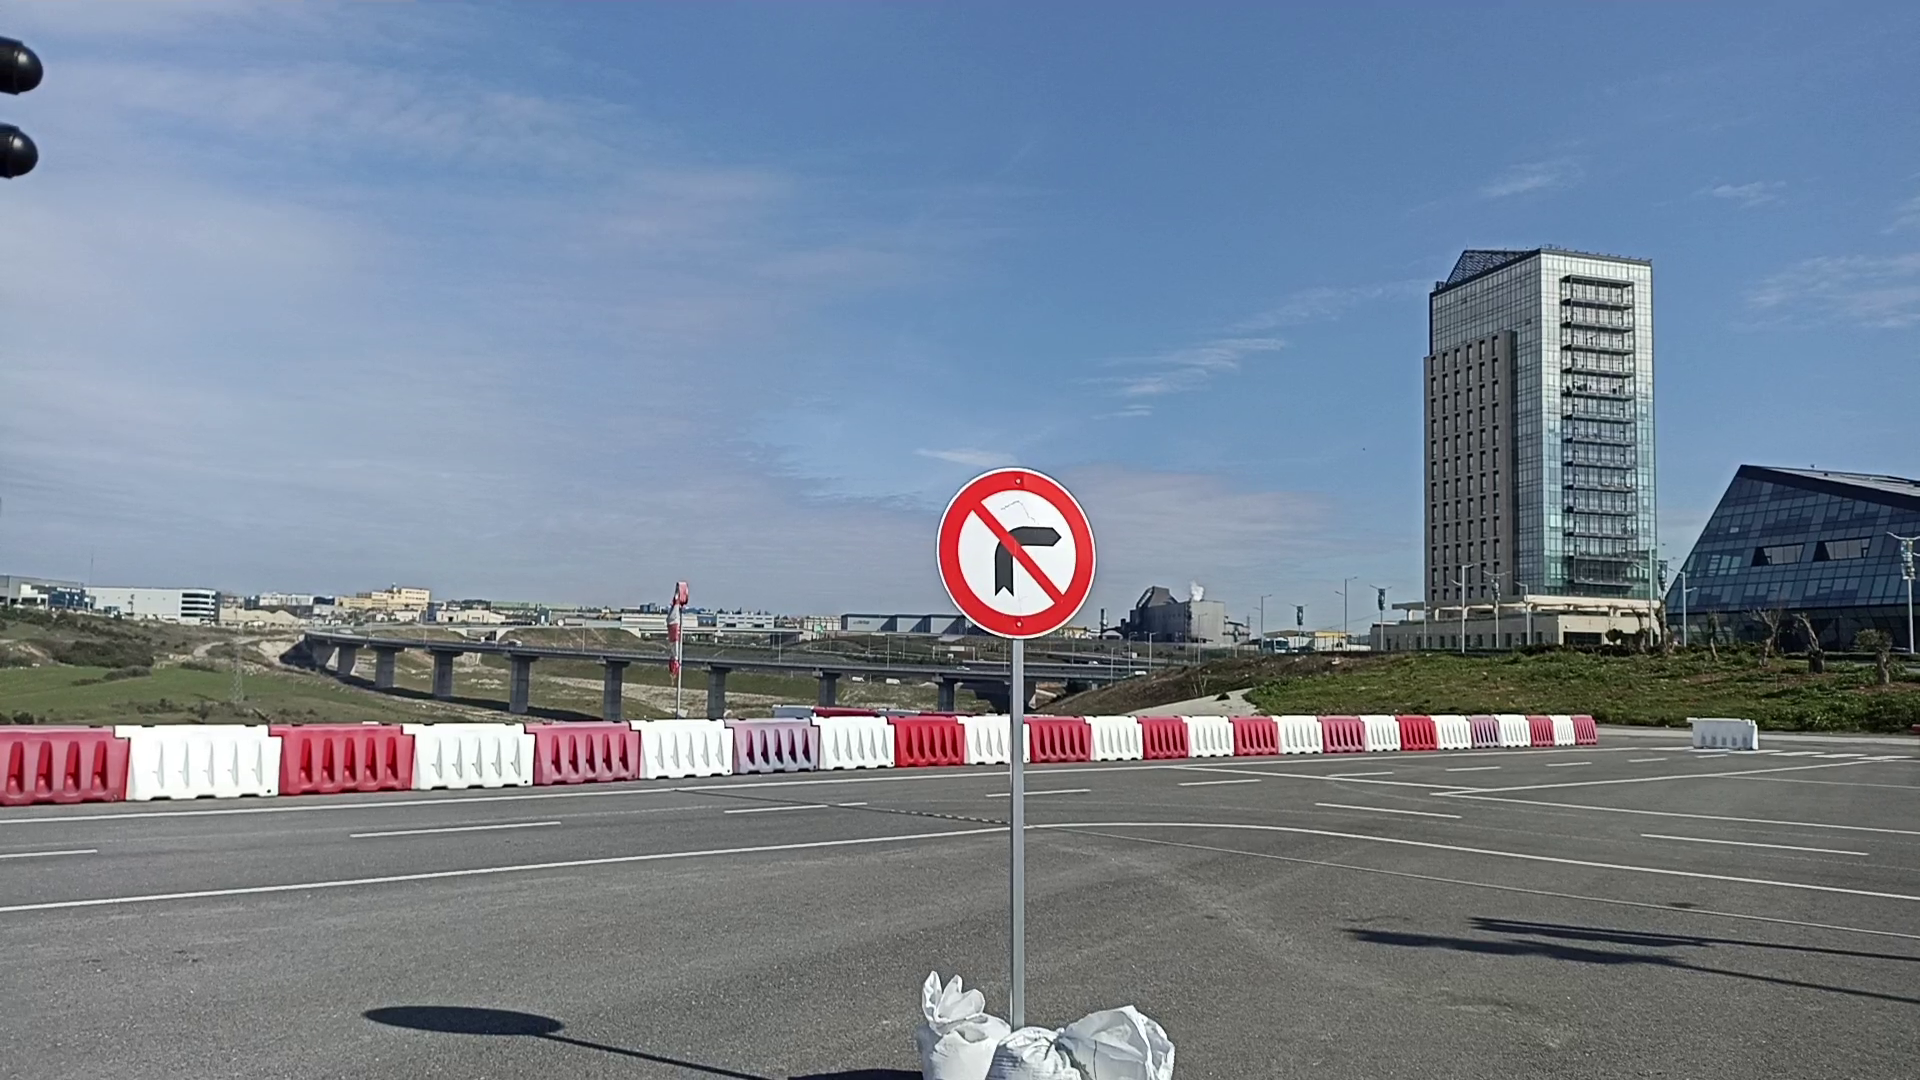noleftturn: (930, 464, 1102, 642)
